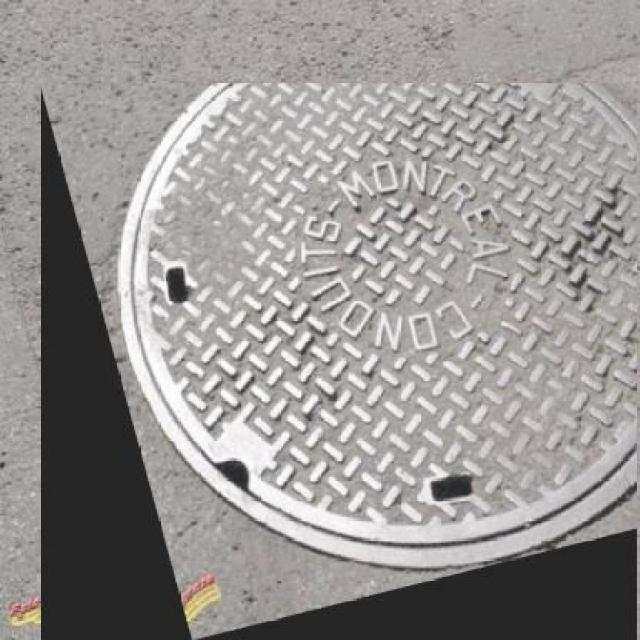Manhole: (39, 83, 638, 640)
